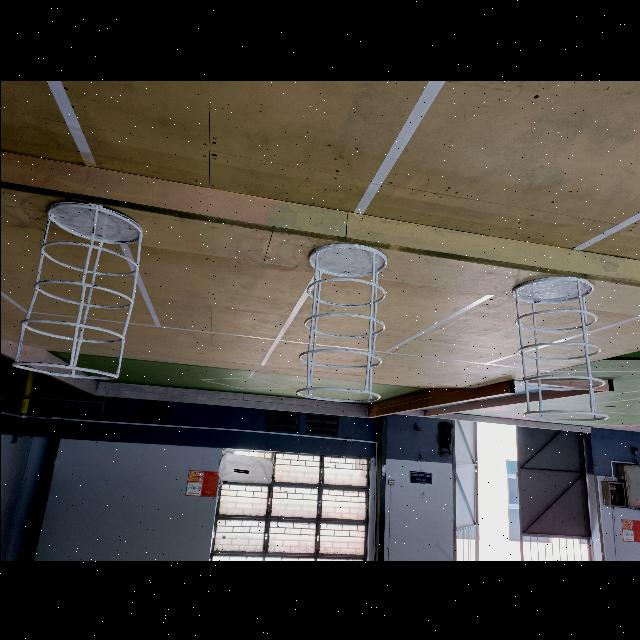S: (11, 202, 143, 380), (295, 243, 385, 401), (511, 275, 607, 420)
